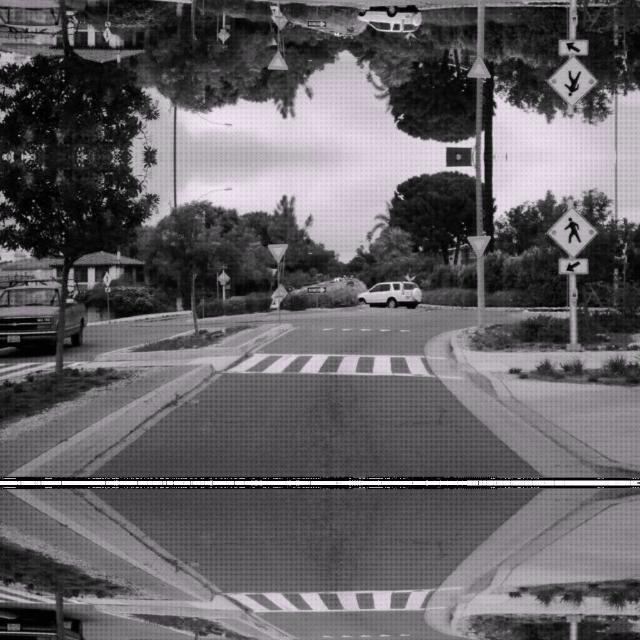pedestrianCrossing: (546, 54, 598, 108), (546, 205, 598, 258)
yield: (467, 234, 491, 256), (467, 56, 491, 78), (267, 241, 287, 261), (267, 51, 287, 71)
